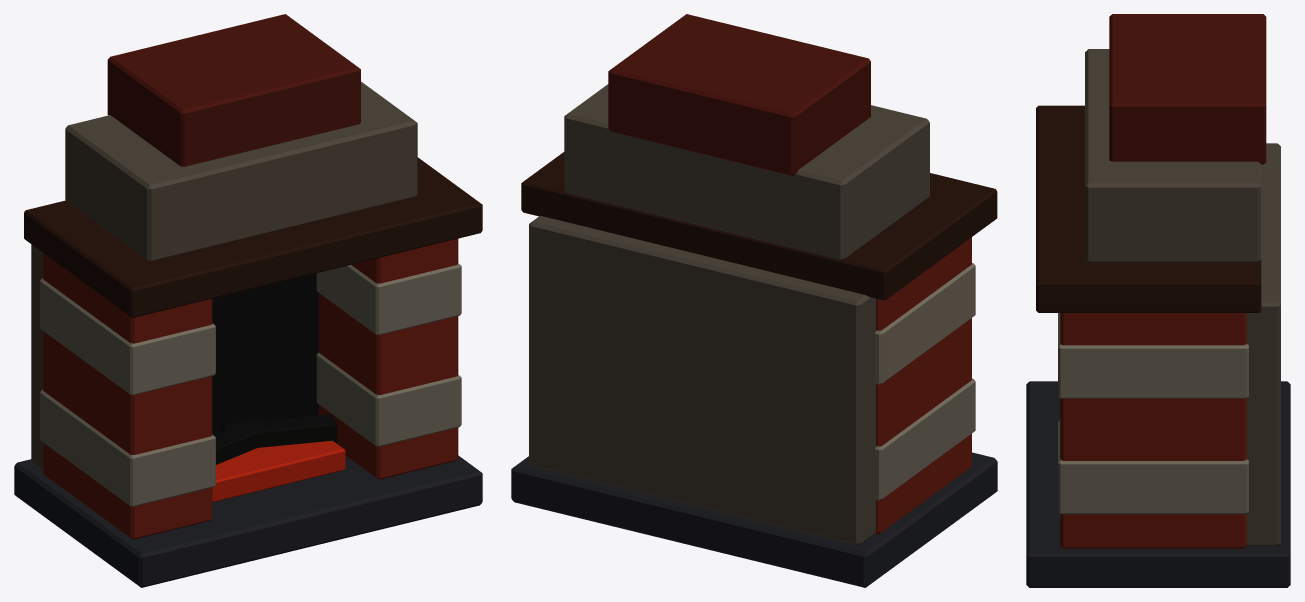
Rendered from mod_fireplace_hearth.glb.
The picture shows the model from 3 angles, left to right: view 1: azimuth 30°, elevation 25°; view 2: azimuth 150°, elevation 25°; view 3: azimuth 270°, elevation 25°; orthographic projection. The views are drawn at different scales.
Visible parts, largest first — view 1: Mod_Fireplace_Hearth; view 2: Mod_Fireplace_Hearth; view 3: Mod_Fireplace_Hearth.
Boxes of the visible parts, bbox=[...] form: Mod_Fireplace_Hearth: bbox=[14, 14, 482, 587]; Mod_Fireplace_Hearth: bbox=[511, 14, 997, 587]; Mod_Fireplace_Hearth: bbox=[1026, 14, 1290, 587].
Size of the model in its own units: 1.72 by 2 by 1.08.
